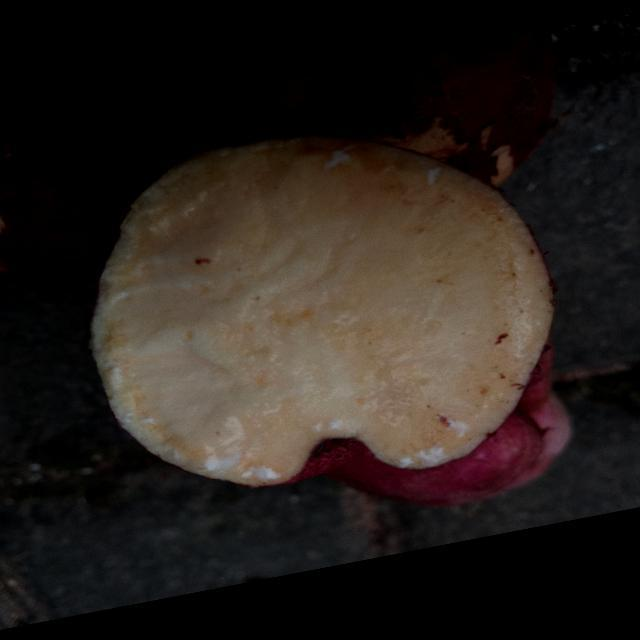Healthy Sweet Potato: (92, 136, 553, 485)
